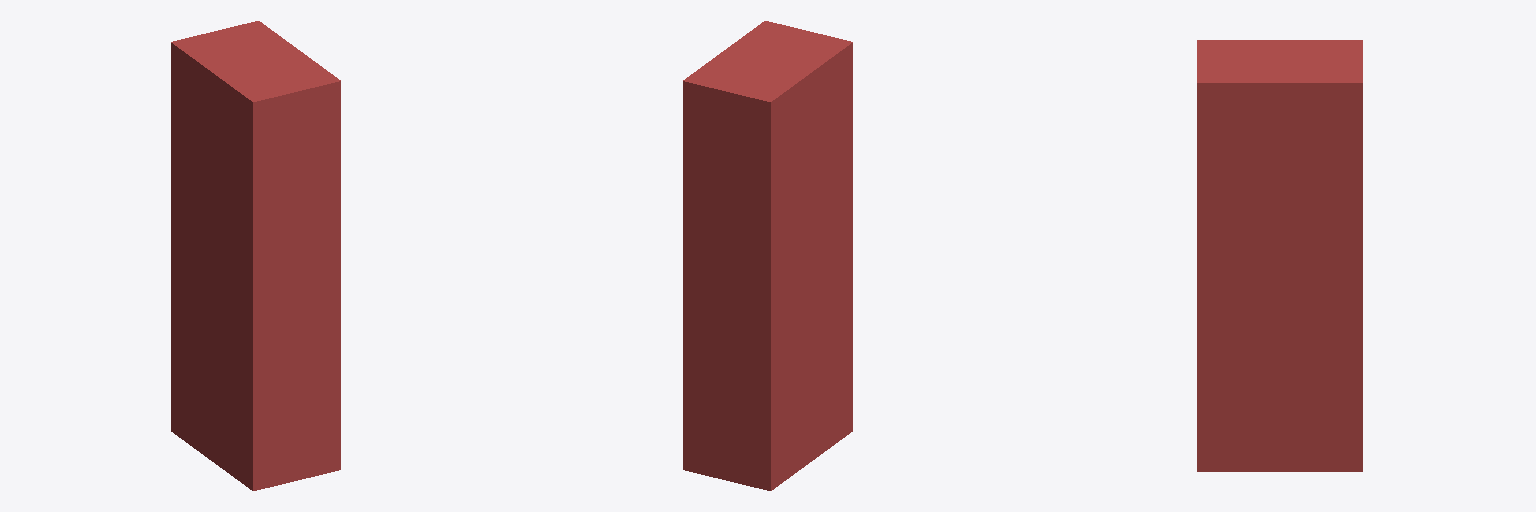
3 renders of one model, left to right at view 1: azimuth 30°, elevation 25°; view 2: azimuth 150°, elevation 25°; view 3: azimuth 270°, elevation 25°, orthographic.
Visible parts, largest first — view 1: legR; view 2: legR; view 3: legR.
Boxes of the visible parts, box(x1,y1,x2,y2) form: legR: box(171, 21, 340, 490); legR: box(683, 21, 852, 490); legR: box(1197, 40, 1362, 471).
Bounding box in the file's own units: 1.02 × 4.29 × 1.65.
Materials: 1 (1 with a texture image).